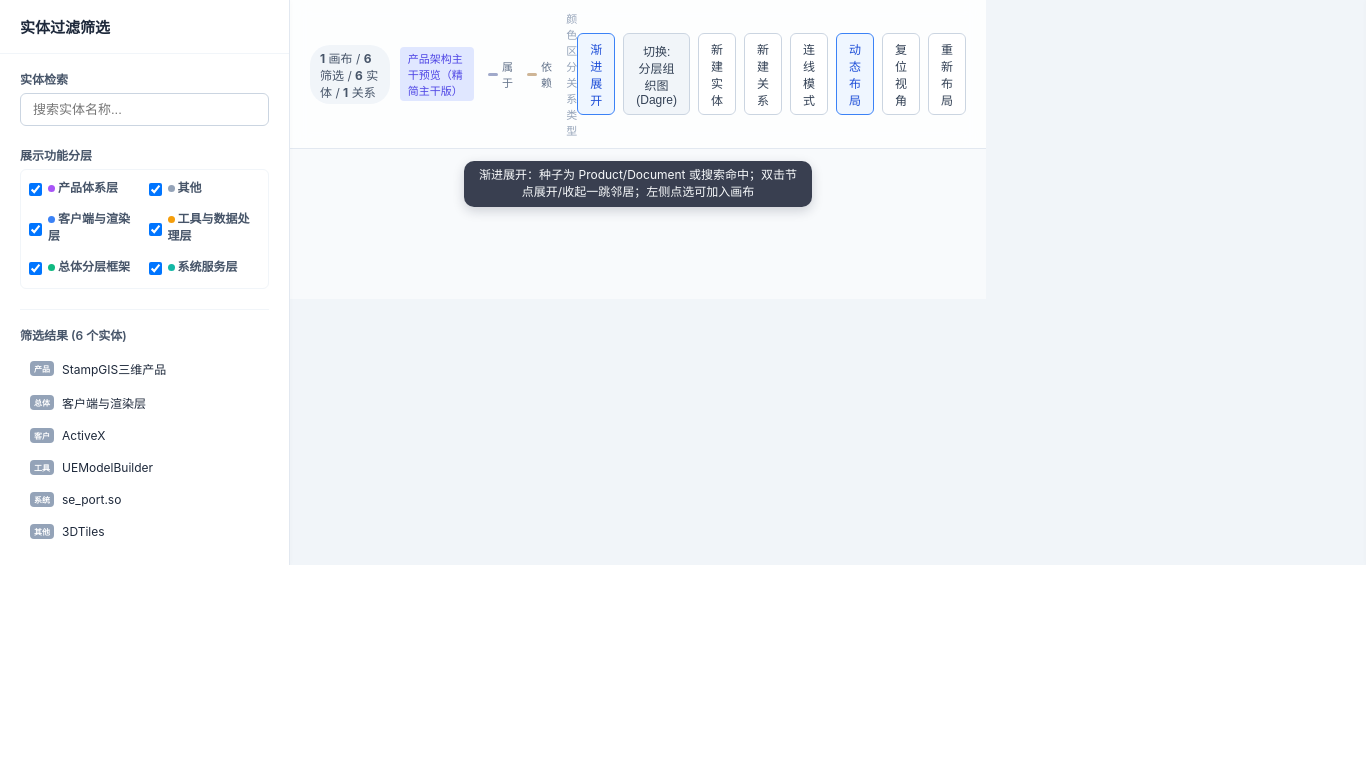
Test case: KnowledgeGraphView › can switch progressive reveal off to show all filtered nodes
This screenshot has width=1366, height=768.
What coordinates should you click on to do the following:
click the button with test id "toggle-progressive-reveal"
I would click on:
 (596, 74)
Its box is [577,33,615,115].
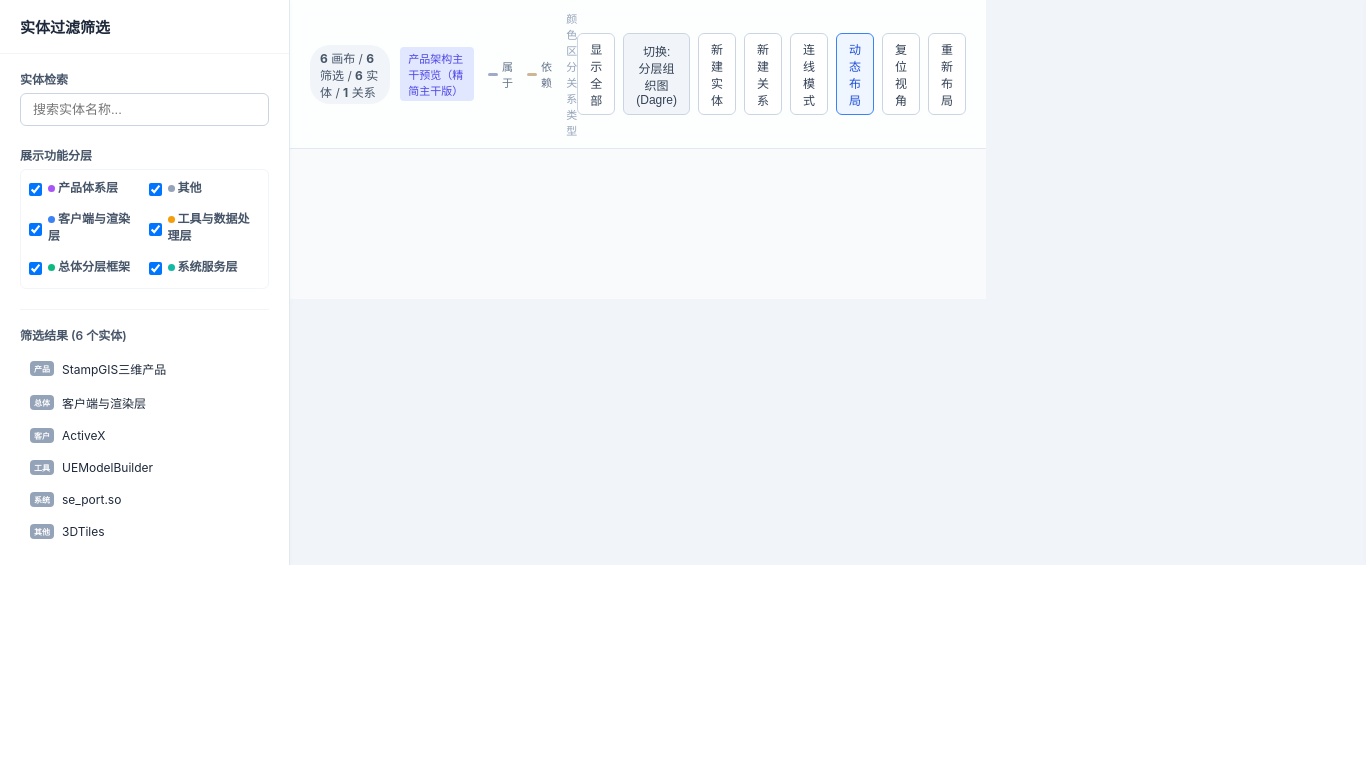
Expected: the button with test id "toggle-progressive-reveal" reads "显示全部", [577,33,615,115]
